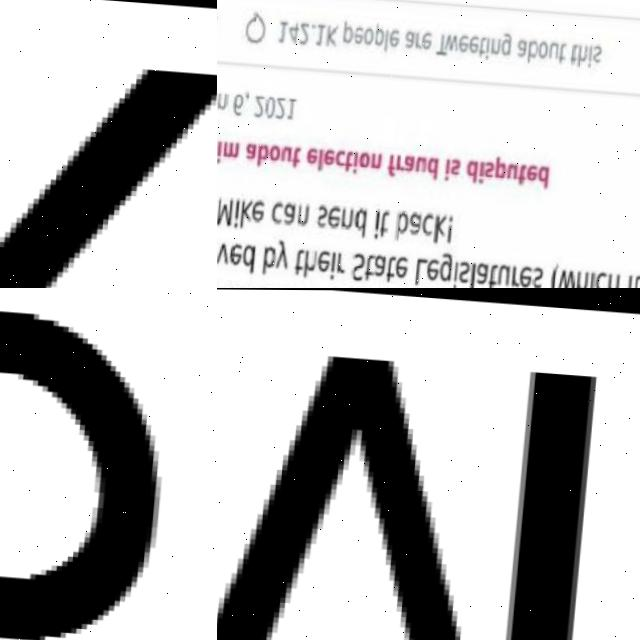0: (262, 94, 276, 118)
1: (312, 22, 325, 48), (285, 94, 297, 121), (277, 19, 287, 44)
2: (299, 19, 310, 45), (253, 94, 264, 117), (275, 95, 285, 120)
4: (286, 21, 298, 44)
6: (0, 298, 200, 640), (231, 90, 244, 116)
A: (281, 199, 298, 225), (407, 210, 423, 237), (372, 250, 388, 276), (475, 259, 490, 285), (243, 140, 257, 161), (402, 151, 416, 172), (515, 36, 527, 56), (403, 29, 413, 50)
B: (261, 244, 276, 276), (394, 209, 409, 239), (256, 141, 269, 165), (526, 36, 538, 62)
C: (420, 211, 435, 237), (270, 198, 285, 222), (593, 267, 609, 288), (335, 147, 345, 166)
D: (241, 242, 256, 273), (354, 204, 367, 238), (534, 161, 550, 188), (464, 157, 479, 181), (425, 154, 440, 178)
E: (326, 201, 342, 228), (228, 239, 244, 265), (518, 262, 533, 288), (394, 252, 409, 278), (251, 198, 266, 224), (426, 257, 442, 280), (316, 247, 331, 270), (525, 161, 540, 182), (352, 23, 364, 44), (306, 145, 318, 165), (457, 32, 469, 52), (323, 146, 335, 164), (388, 26, 398, 47), (422, 29, 431, 49), (468, 32, 477, 52)
F: (386, 152, 396, 176)
G: (438, 249, 454, 283), (500, 30, 511, 57)
H: (303, 246, 318, 278), (574, 267, 590, 288), (605, 270, 620, 288), (576, 42, 586, 67)
I: (443, 157, 451, 182), (351, 147, 358, 173), (233, 197, 239, 226), (586, 42, 592, 68), (374, 206, 379, 237), (477, 158, 483, 183), (330, 250, 335, 279), (453, 259, 458, 288), (625, 270, 633, 288), (588, 269, 595, 288), (484, 33, 489, 58), (217, 138, 222, 161)
K: (0, 36, 217, 288), (433, 212, 448, 242), (240, 197, 254, 228), (324, 22, 338, 47)
L: (413, 255, 429, 284), (469, 260, 475, 288), (316, 146, 323, 169), (383, 27, 389, 52)
M: (217, 332, 601, 640), (217, 196, 233, 223), (222, 140, 240, 158)
N: (339, 205, 354, 228), (296, 202, 309, 225), (370, 151, 382, 169), (217, 90, 227, 108), (490, 35, 499, 55)
O: (357, 150, 371, 169), (361, 25, 374, 45), (537, 37, 549, 57), (268, 143, 280, 161)
P: (492, 154, 508, 179), (341, 19, 354, 42), (373, 20, 384, 46)
R: (335, 248, 347, 274), (512, 263, 522, 288), (394, 152, 403, 170), (415, 30, 421, 47)
S: (350, 250, 366, 282), (458, 258, 472, 284), (530, 265, 545, 288), (315, 203, 328, 226), (483, 158, 495, 177), (450, 156, 459, 176), (592, 42, 601, 62)
T: (384, 253, 397, 282), (433, 32, 448, 55), (379, 208, 390, 238), (364, 253, 375, 281), (555, 39, 566, 65), (294, 248, 304, 276), (488, 261, 498, 288), (516, 160, 526, 185), (343, 148, 353, 171), (292, 144, 302, 167), (568, 39, 576, 64), (477, 35, 485, 57), (631, 271, 640, 288)
U: (496, 260, 511, 286), (505, 160, 518, 179), (281, 142, 293, 161), (414, 154, 426, 172), (548, 39, 558, 59)
V: (217, 239, 231, 262)
W: (556, 265, 577, 288), (443, 31, 458, 51)
Y: (275, 237, 290, 269)
